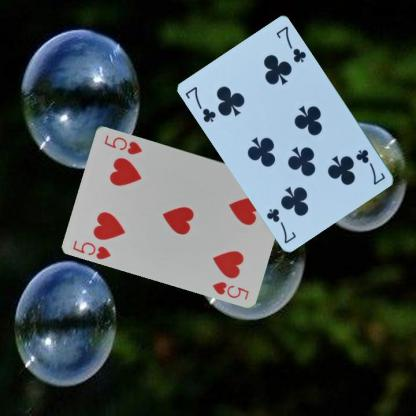5h: (70, 238, 112, 260)
7c: (182, 84, 218, 124), (354, 146, 387, 186)
